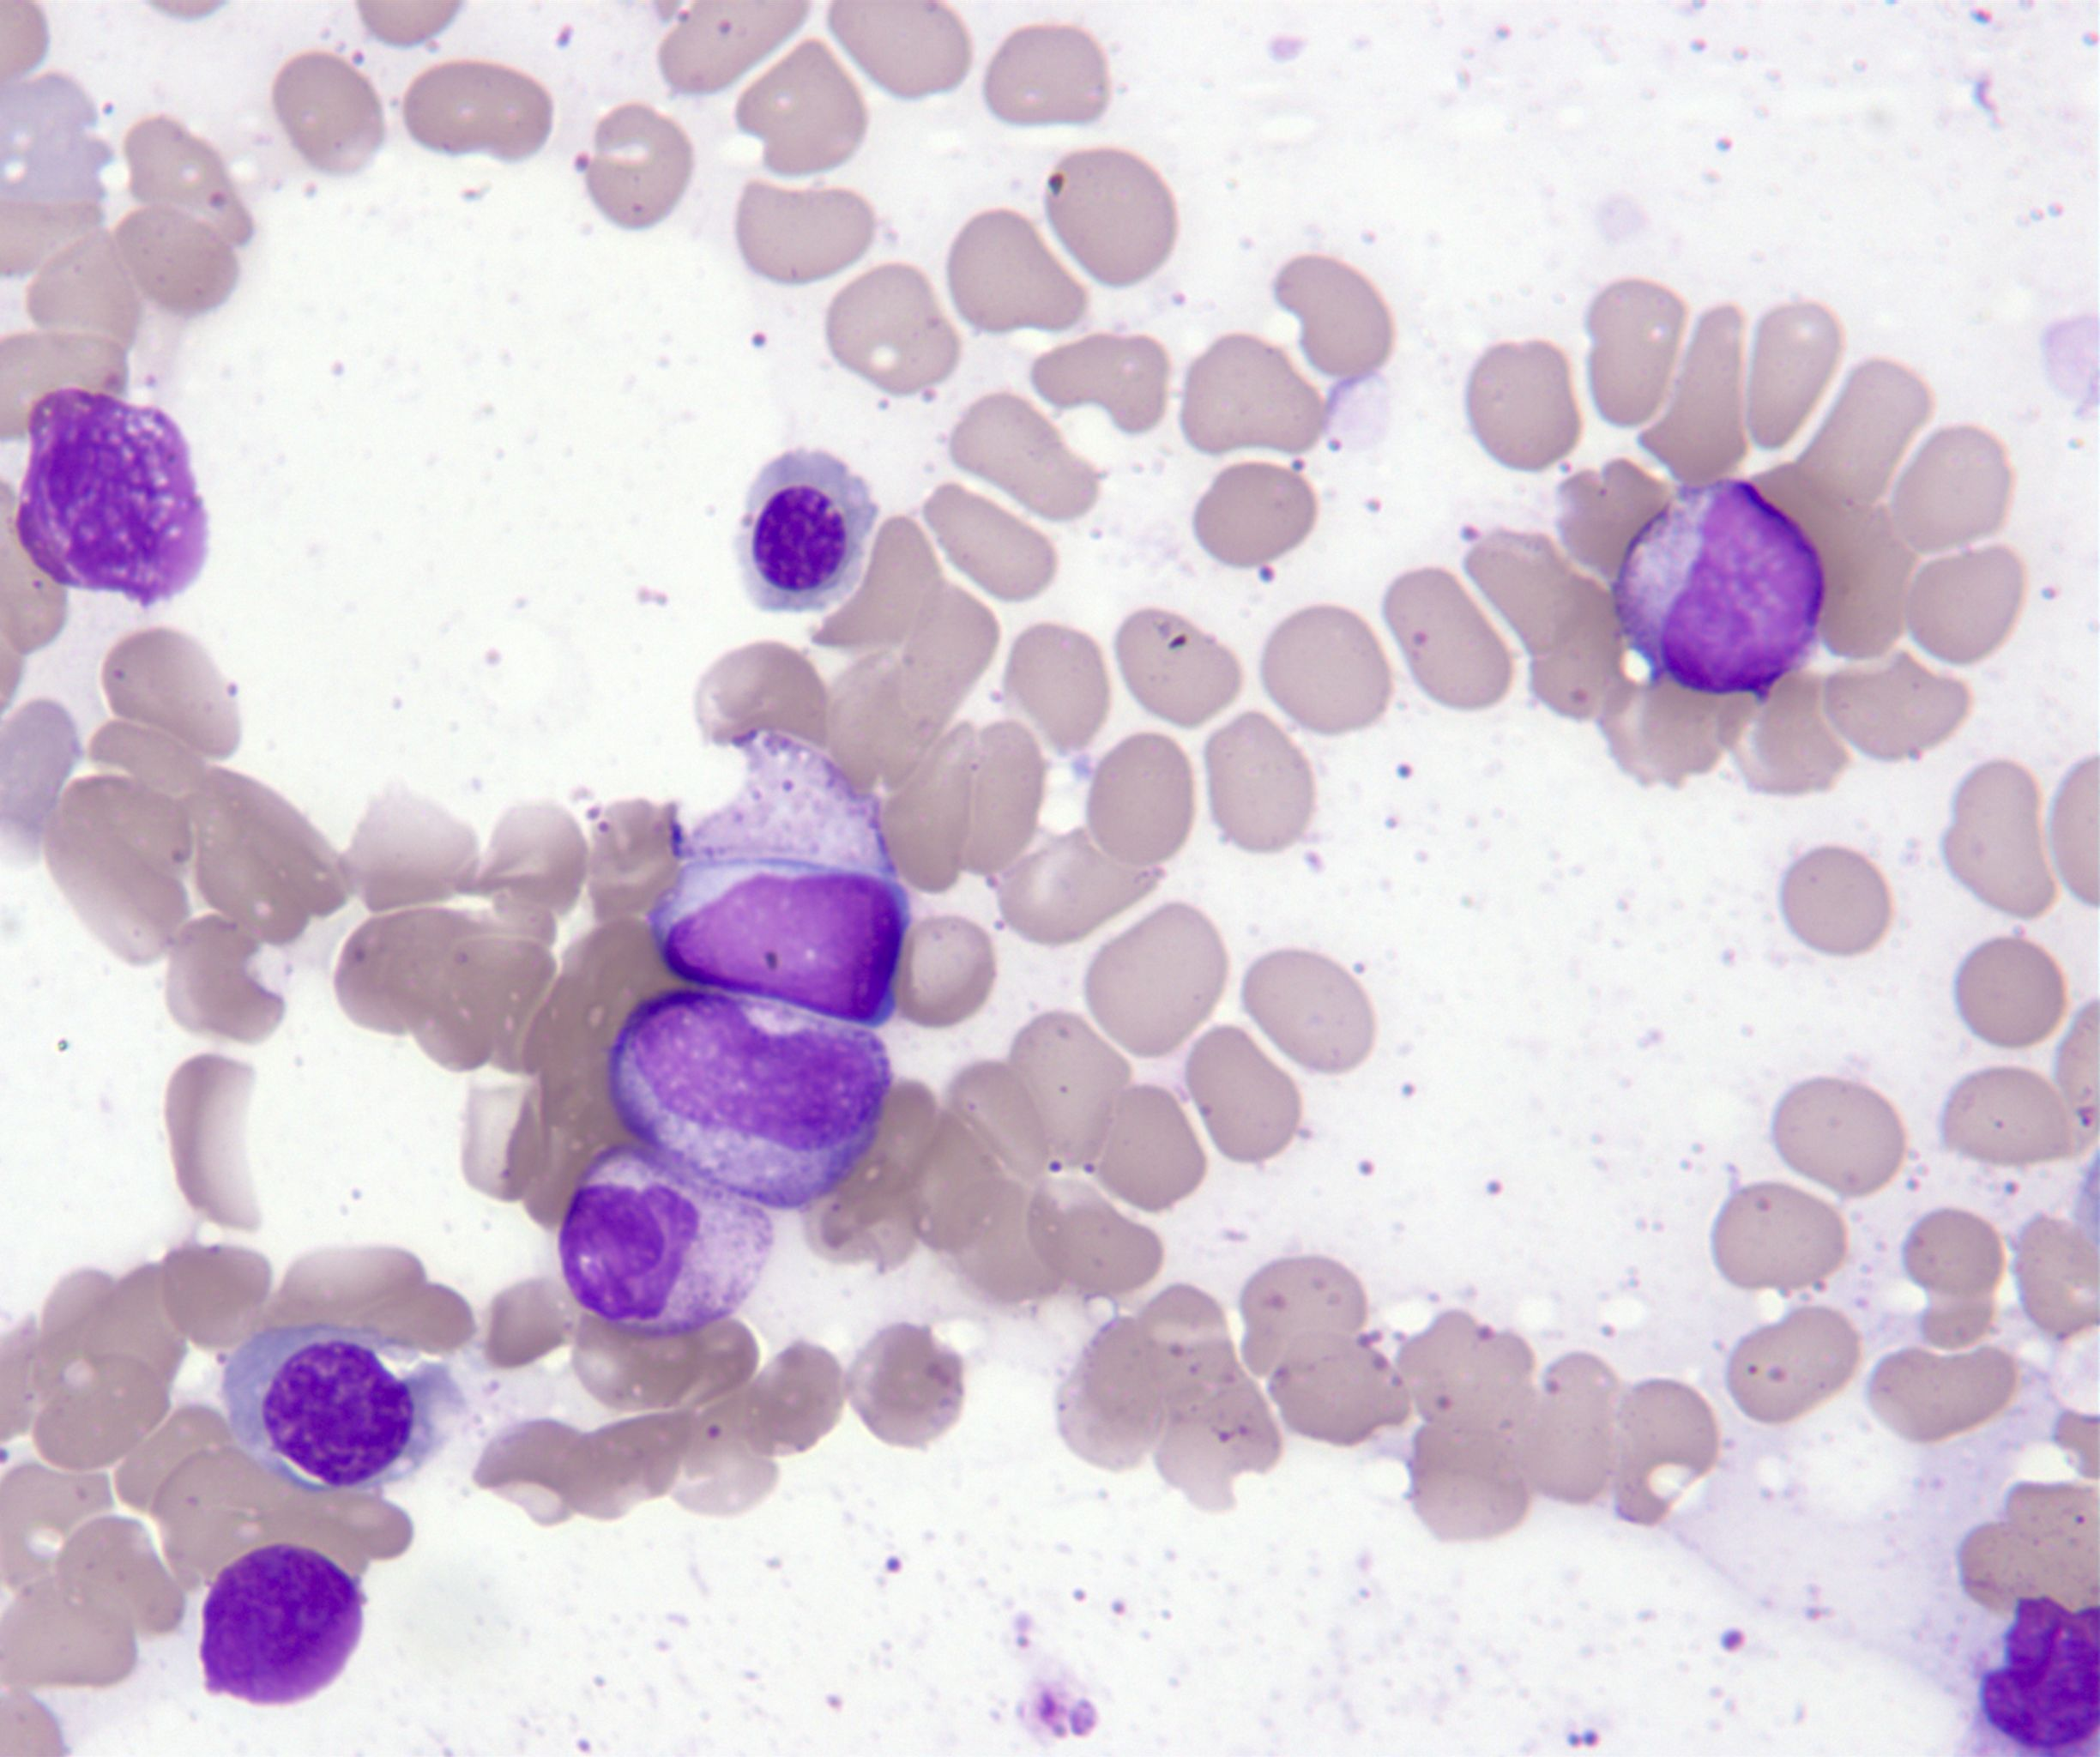23: (222, 1323, 469, 1499)
24: (734, 448, 881, 612)
3: (610, 989, 893, 1207), (1613, 478, 1824, 703)
31: (647, 858, 910, 1026)
5: (562, 1145, 773, 1335)
x: (16, 389, 208, 611), (201, 1546, 366, 1705), (1981, 1596, 2100, 1757)
